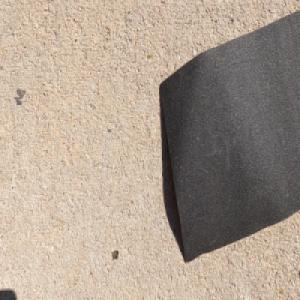PaintChip: (159, 10, 300, 265)
